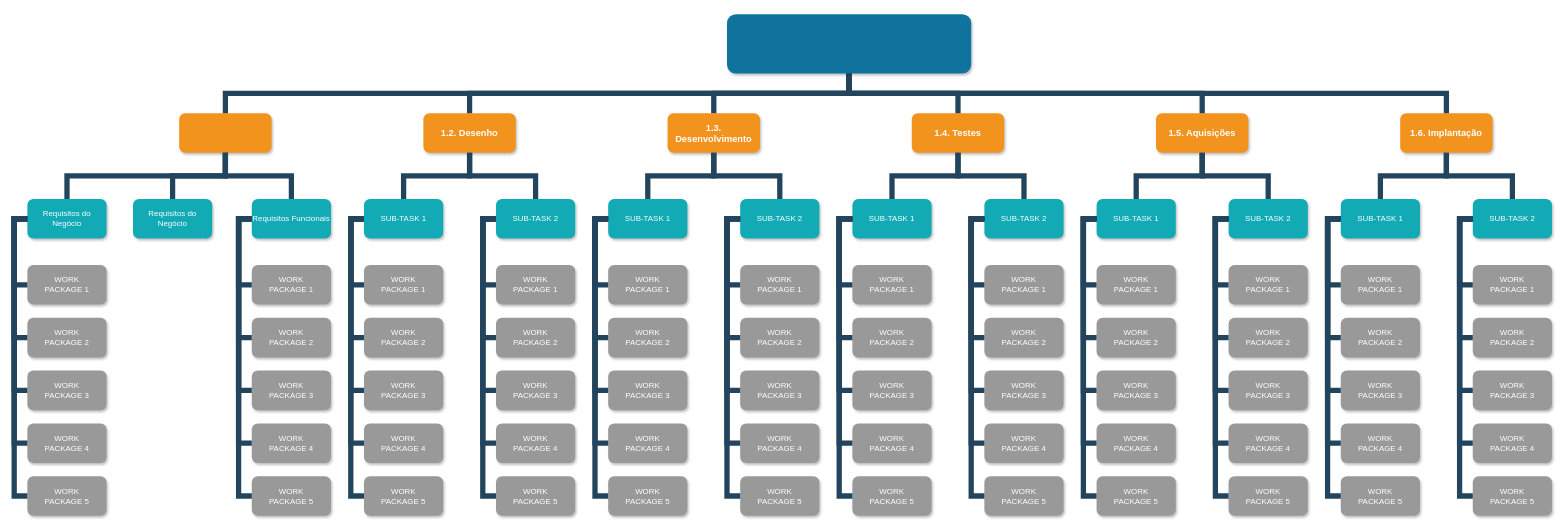
Some shapes in this 1567 by 531 pixel diagram are drawn without their labels. The shapes that lost their labels are listed below. From the top down, each one's centre as x and y in pixels, then its label:
pixel 849 44: Desenvolvimento de Sistema da Disciplina de GPS
pixel 225 133: 1.1. Análise
